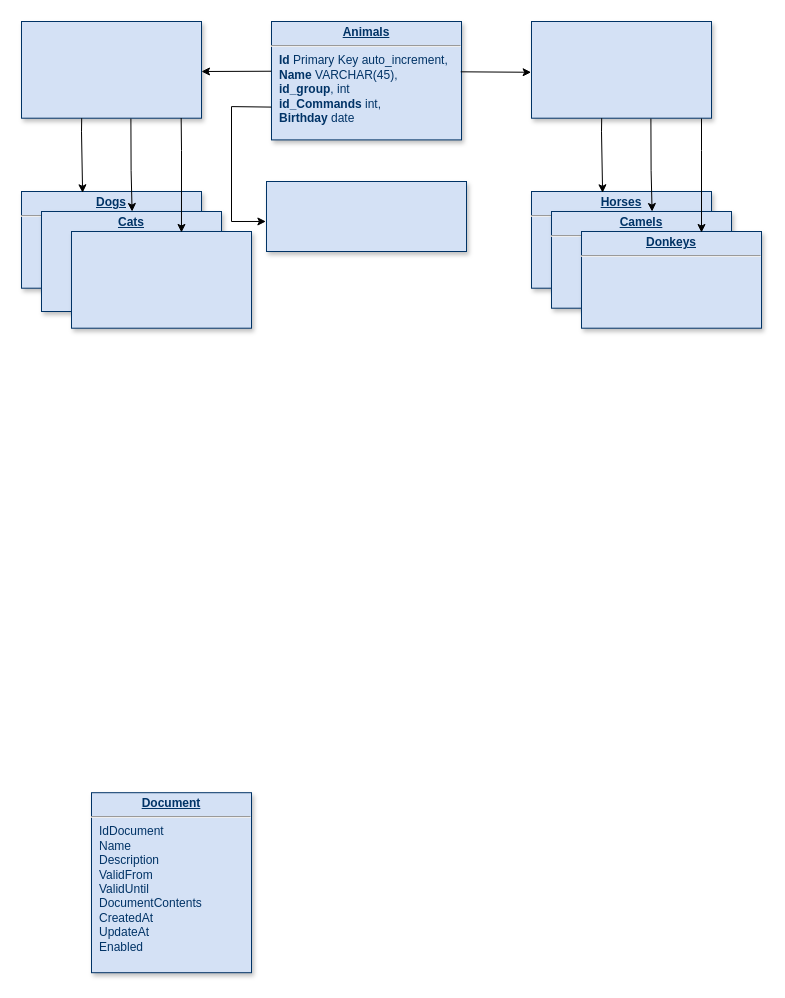
The diagram is 785 pixels wide and 998 high, and some of its shapes have lost their labels. Each missing label, with the centre of its shape:
"Commands Id Primary Key auto_increment, Name _ Commands VARCHAR(45)" goes at (367,217).
"Hamsters" goes at (162,280).
"Pack Animals" goes at (622,70).
"Pets" goes at (112,70).
